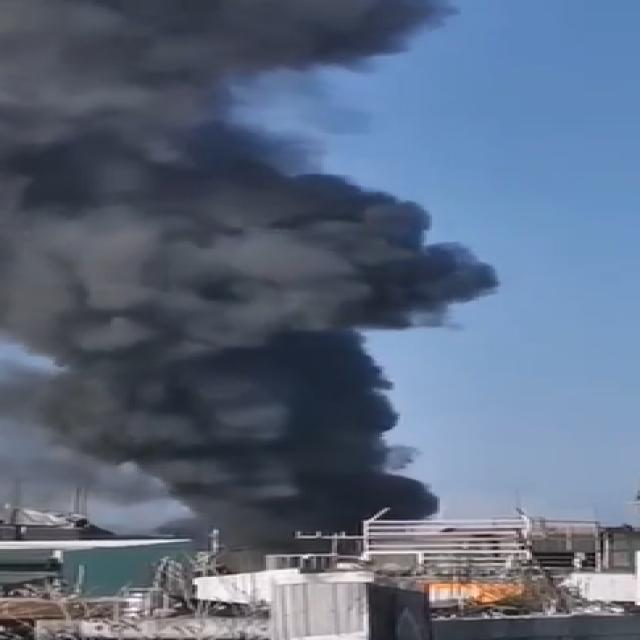Smoke: (0, 0, 498, 520)
